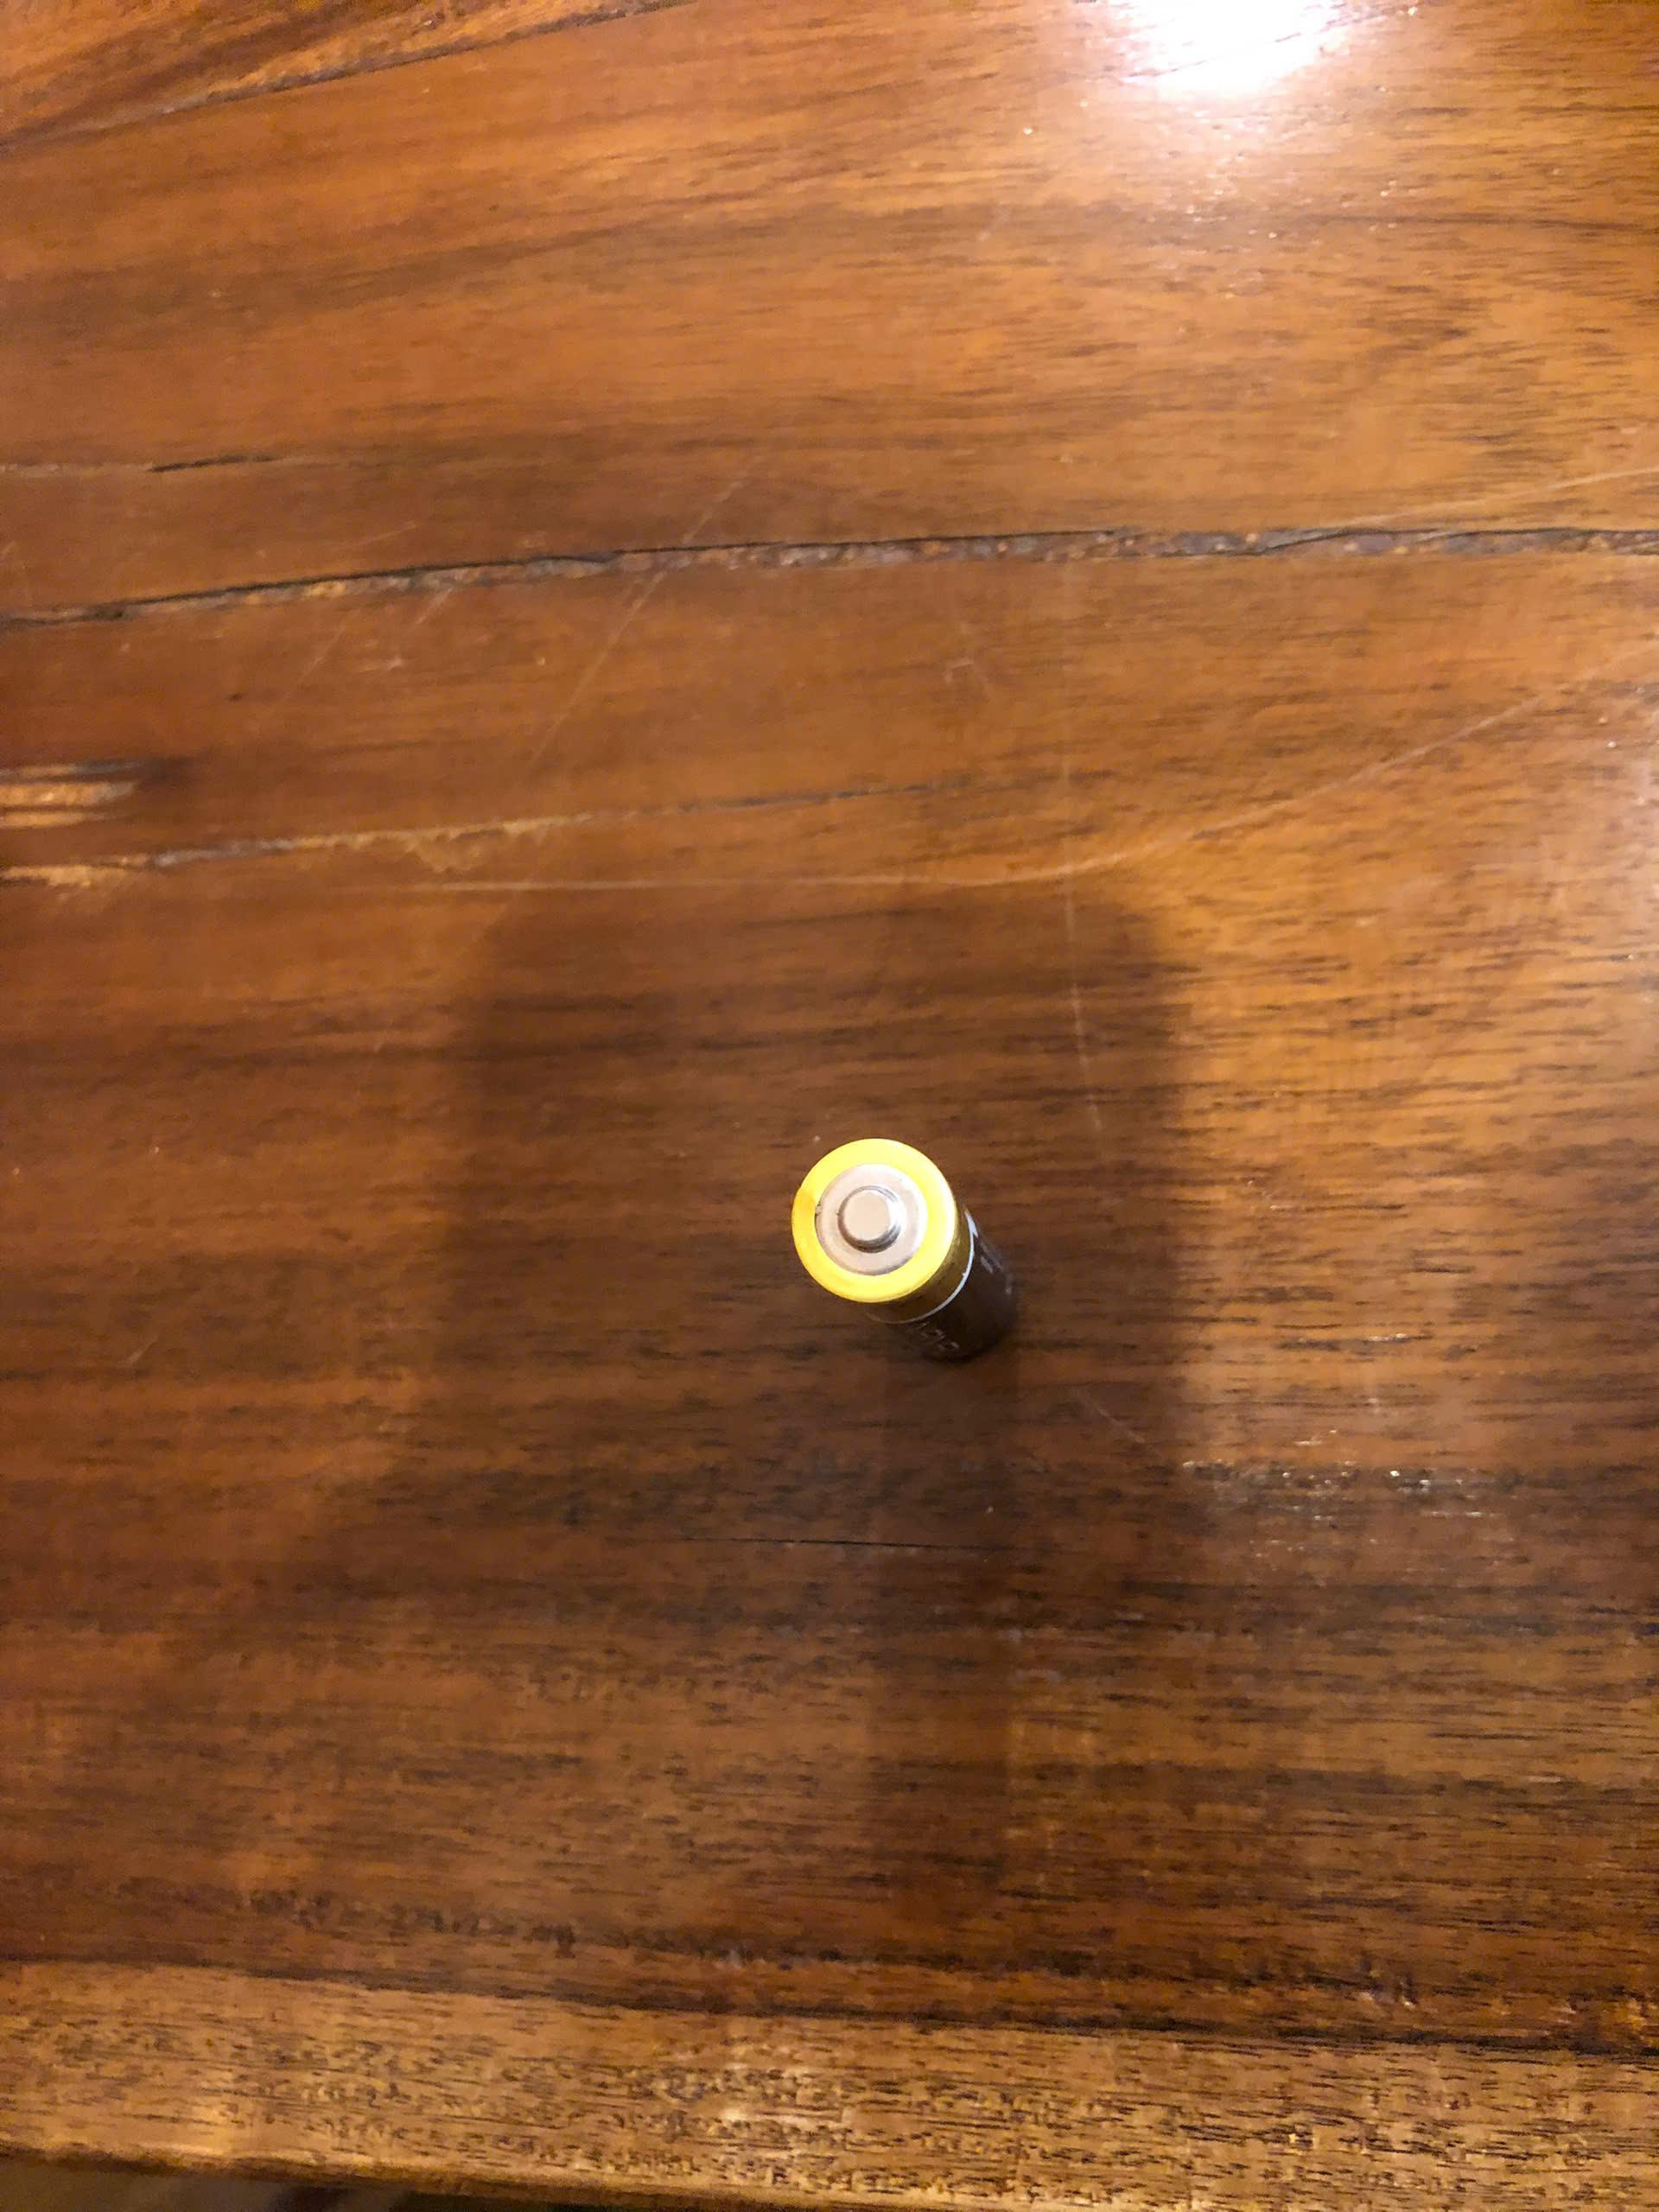Con lai: (782, 1132, 1019, 1367)
